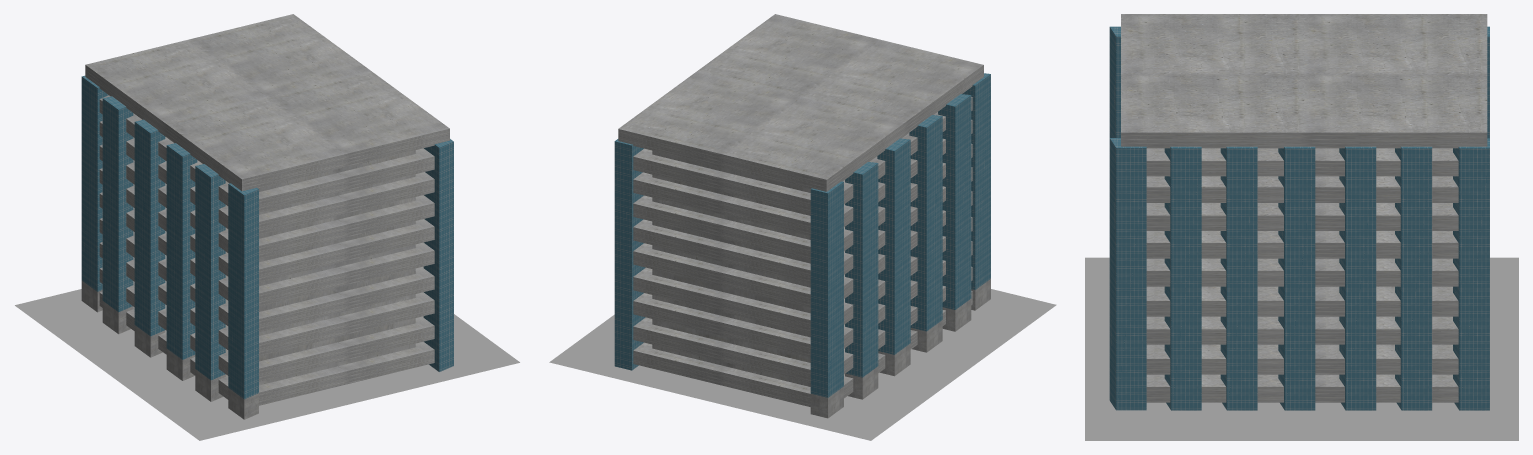
The model's file is Building_3_VAL.fbx.
3 views of the same model, side by side, from view 1: azimuth 30°, elevation 25°; view 2: azimuth 150°, elevation 25°; view 3: azimuth 270°, elevation 25° (orthographic). The views are drawn at different scales.
Visible parts, largest first — view 1: pCube11, pPlane1, pCube18, pCube1, pCube24, pCube23, pCube22, pCube21, pCube20, pCube19, pCube10, pCube5 (+7 smaller); view 2: pCube11, pPlane1, pCube19, pCube1, pCube24, pCube23, pCube22, pCube21, pCube12, pCube18, pCube10, pCube5 (+7 smaller); view 3: pCube11, pPlane1, pCube20, pCube13, pCube14, pCube15, pCube16, pCube17, pCube12, pCube7, pCube5, pCube10 (+7 smaller).
Boxes of the visible parts, x1,y1,x2,y2 form: pCube11: (85,14,449,191); pPlane1: (15,289,519,440); pCube18: (228,183,258,419); pCube1: (258,150,415,385); pCube24: (102,96,133,334); pCube23: (134,119,165,357); pCube22: (166,143,197,380); pCube21: (195,164,225,401); pCube20: (423,139,453,371); pCube19: (81,75,108,312); pCube10: (99,95,434,212); pCube5: (99,218,434,332); pCube11: (618,14,983,191); pPlane1: (549,289,1056,440); pCube19: (810,181,843,418); pCube1: (652,150,810,386); pCube24: (845,162,878,399); pCube23: (877,138,910,376); pCube22: (909,115,942,352); pCube21: (938,94,971,331); pCube12: (614,139,645,370); pCube18: (962,73,990,310); pCube10: (633,97,972,212); pCube5: (633,217,972,333); pCube11: (1121,14,1487,148); pPlane1: (1085,257,1518,440); pCube20: (1109,138,1146,410); pCube13: (1395,146,1432,410); pCube14: (1339,146,1376,410); pCube15: (1278,146,1315,410); pCube16: (1220,146,1257,410); pCube17: (1164,146,1201,410); pCube12: (1453,138,1489,410); pCube7: (1146,344,1458,374); pCube5: (1146,286,1458,316); pCube10: (1146,148,1458,176).
Bounding box in the file's own units: 9.92 × 7.09 × 9.92.
